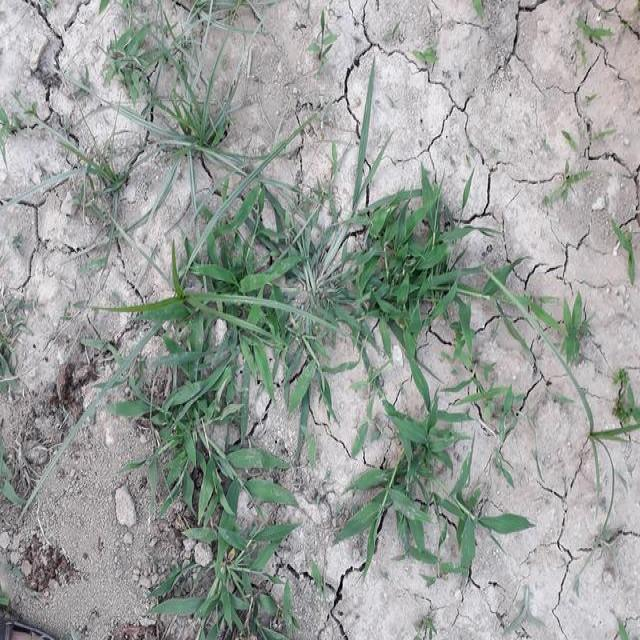weed: (159, 180, 309, 640), (348, 399, 528, 585), (326, 179, 483, 350)
